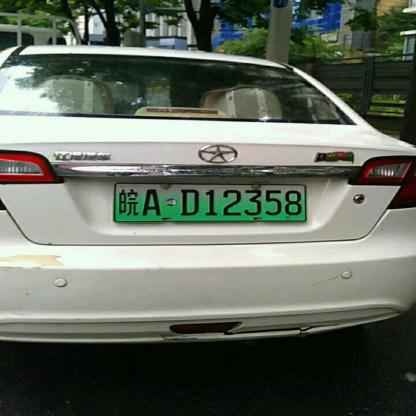lp: (115, 183, 304, 221)
